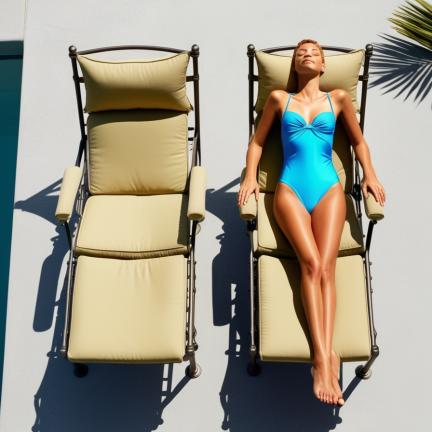empty chair: (55, 46, 207, 378)
guest on chair: (238, 39, 386, 406)
